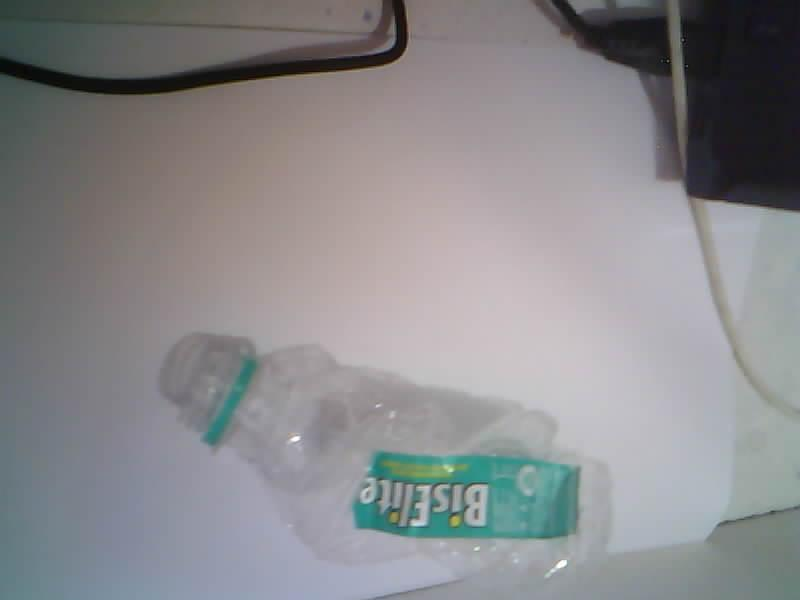non-biodegradable: (161, 334, 610, 581)
